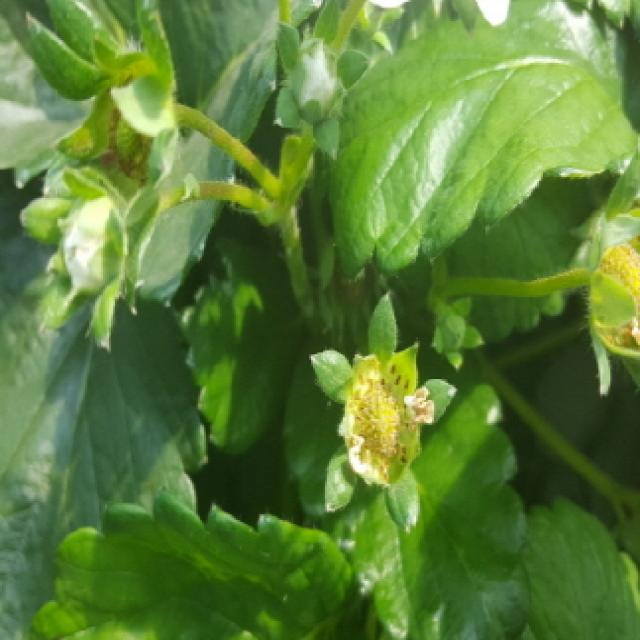Blossom Blight: (336, 359, 436, 486)
